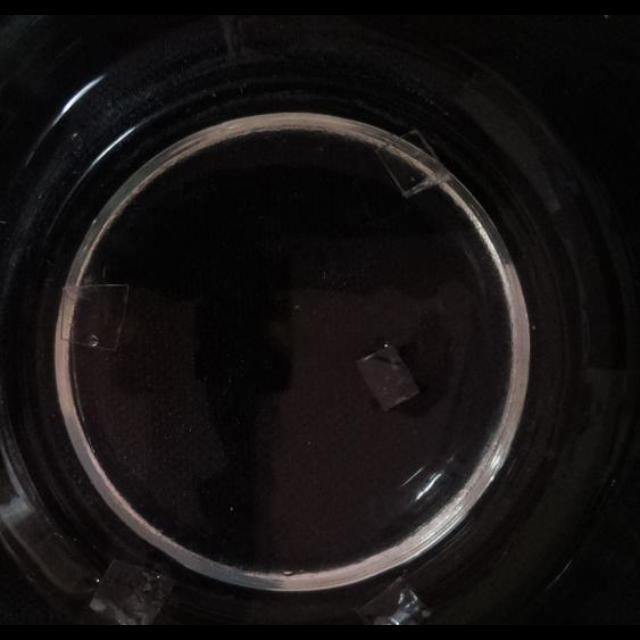Film: (86, 560, 174, 624), (372, 128, 451, 196), (59, 282, 133, 354), (354, 341, 421, 411), (355, 578, 433, 626)
